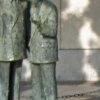Statue: (7, 5, 67, 96)
